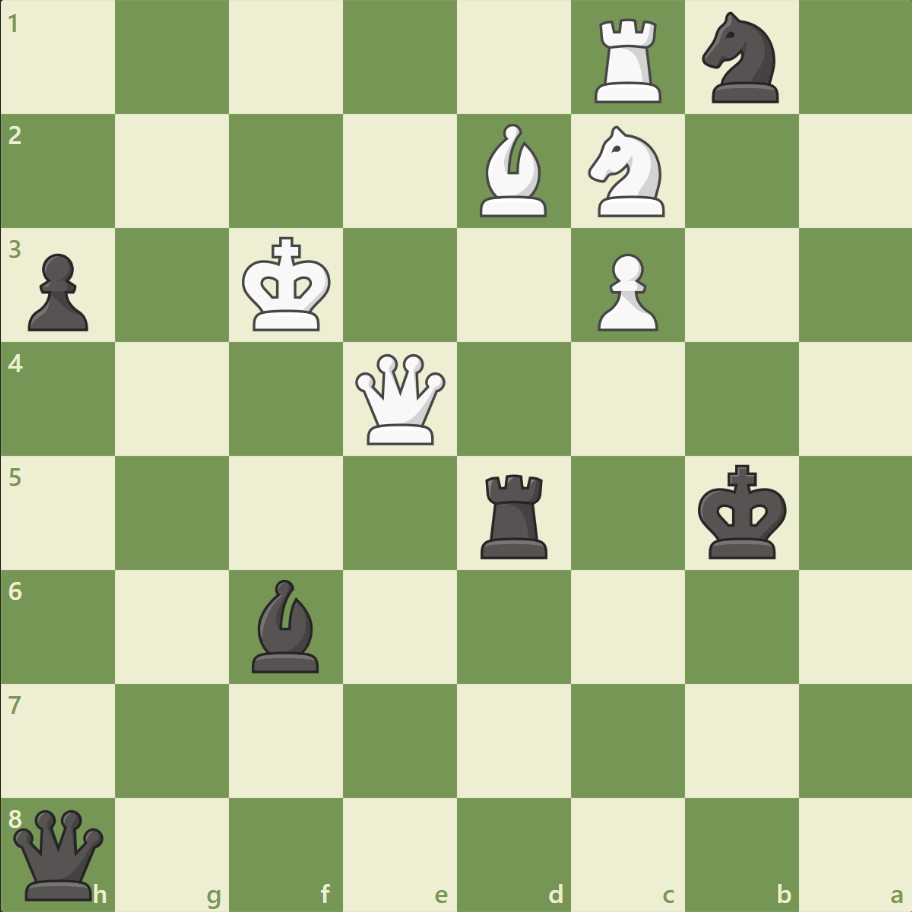B: (479, 125, 557, 229)
K: (242, 240, 340, 341)
N: (587, 127, 676, 228)
P: (596, 249, 668, 333)
Q: (354, 353, 455, 455)
R: (592, 13, 670, 113)
b: (251, 579, 330, 683)
k: (696, 467, 794, 568)
n: (700, 13, 789, 114)
p: (28, 249, 100, 333)
q: (14, 807, 115, 909)
r: (479, 467, 557, 567)
